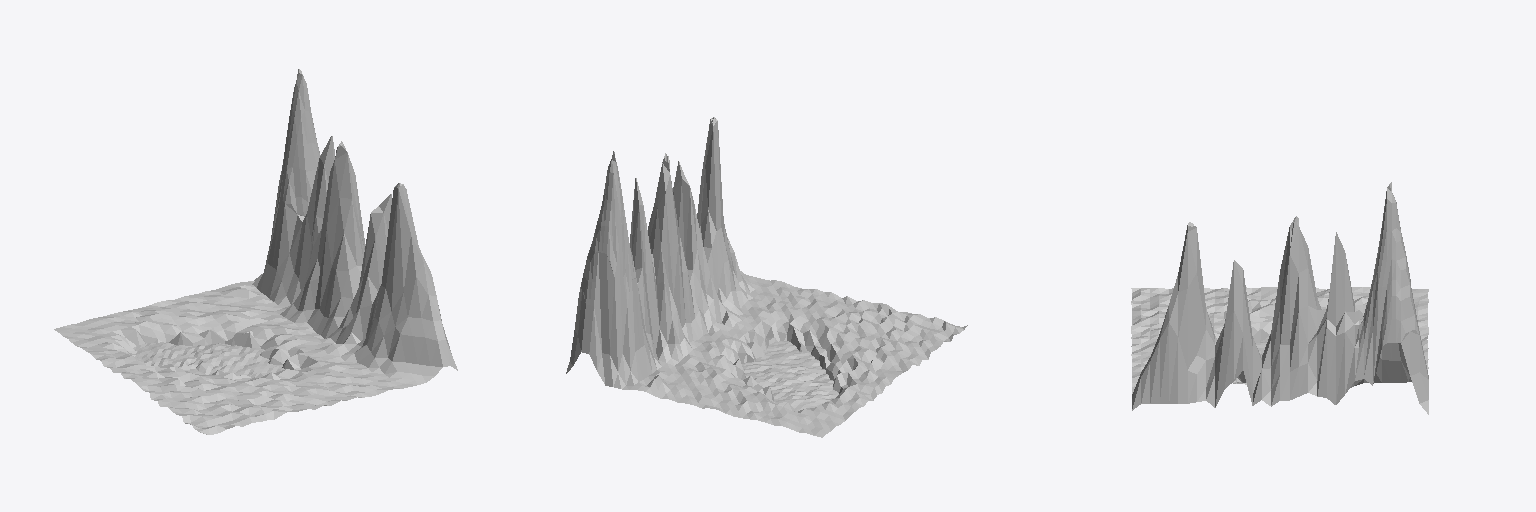
File: LPTerrain.obj
3 views of the same model, side by side, from view 1: azimuth 30°, elevation 25°; view 2: azimuth 150°, elevation 25°; view 3: azimuth 270°, elevation 25° (orthographic).
Parts seen in each view (by area): view 1: Plane, Plane.001_Plane.002; view 2: Plane, Plane.001_Plane.002; view 3: Plane.
Part boxes in pixels (x1,y1,x2,y2): Plane: (54,69,457,434); Plane.001_Plane.002: (133,342,284,377); Plane: (566,117,967,437); Plane.001_Plane.002: (741,341,838,411); Plane: (1131,182,1428,414).
Bounding box in the file's own units: 16.02 × 14.56 × 16.02.